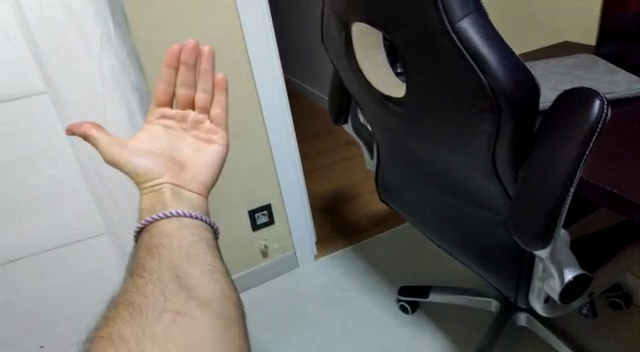Palm: (65, 34, 231, 199)
